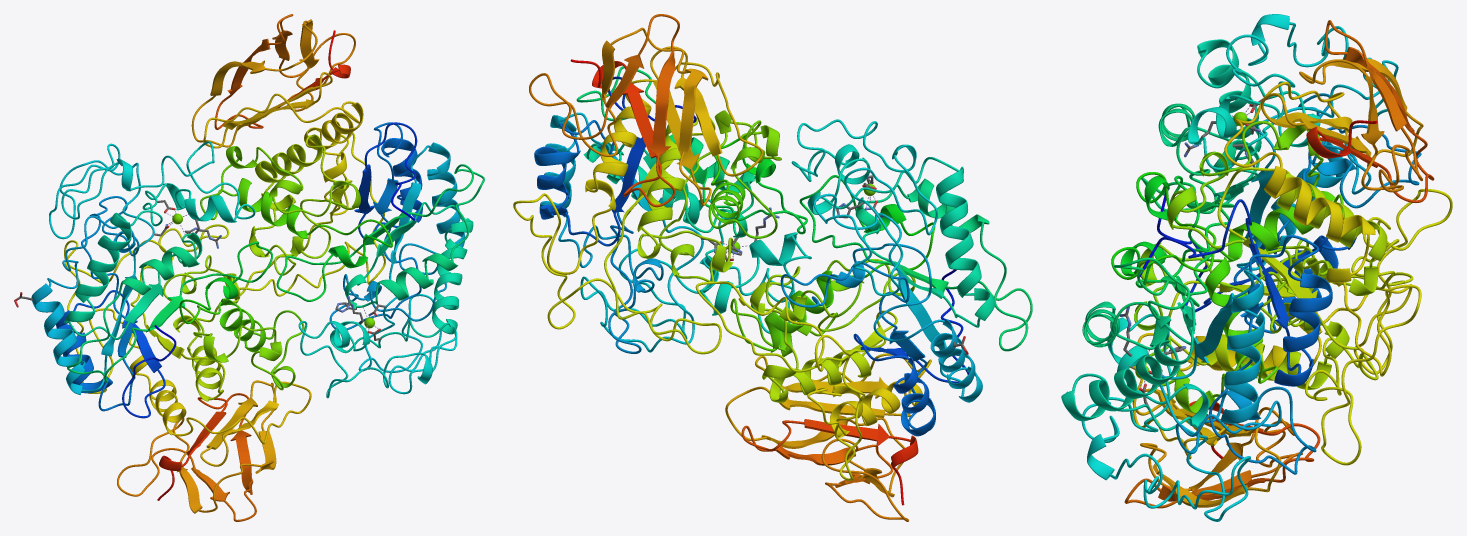
The model's file is amylase.glb.
3 renders of one model, left to right at view 1: azimuth 30°, elevation 25°; view 2: azimuth 150°, elevation 25°; view 3: azimuth 270°, elevation 25°, orthographic. The views are drawn at different scales.
Visible parts, largest first — view 1: ribbons, bonds; view 2: ribbons, bonds; view 3: ribbons, bonds.
Boxes of the visible parts, x1,y1,x2,y2 form: ribbons: (31,14,484,521); bonds: (14,200,386,340); ribbons: (513,14,1032,521); bonds: (701,175,968,354); ribbons: (1061,14,1452,521); bonds: (1119,97,1344,405).
Size of the model in its own units: 87.72 by 86.6 by 54.7.
